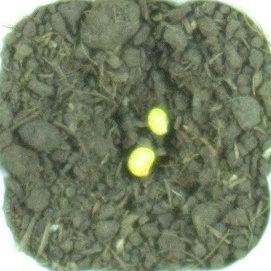chilli seed: (126, 145, 156, 177), (146, 106, 170, 136)
